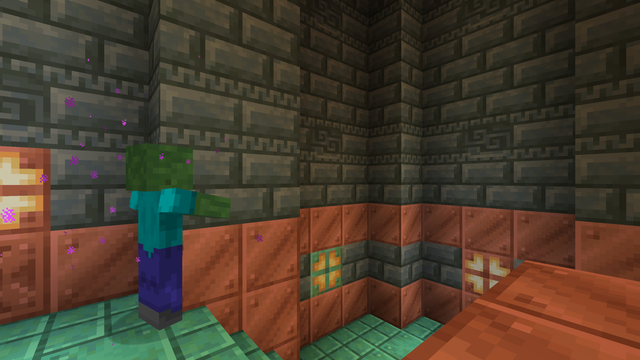zombies: (126, 147, 194, 341)
